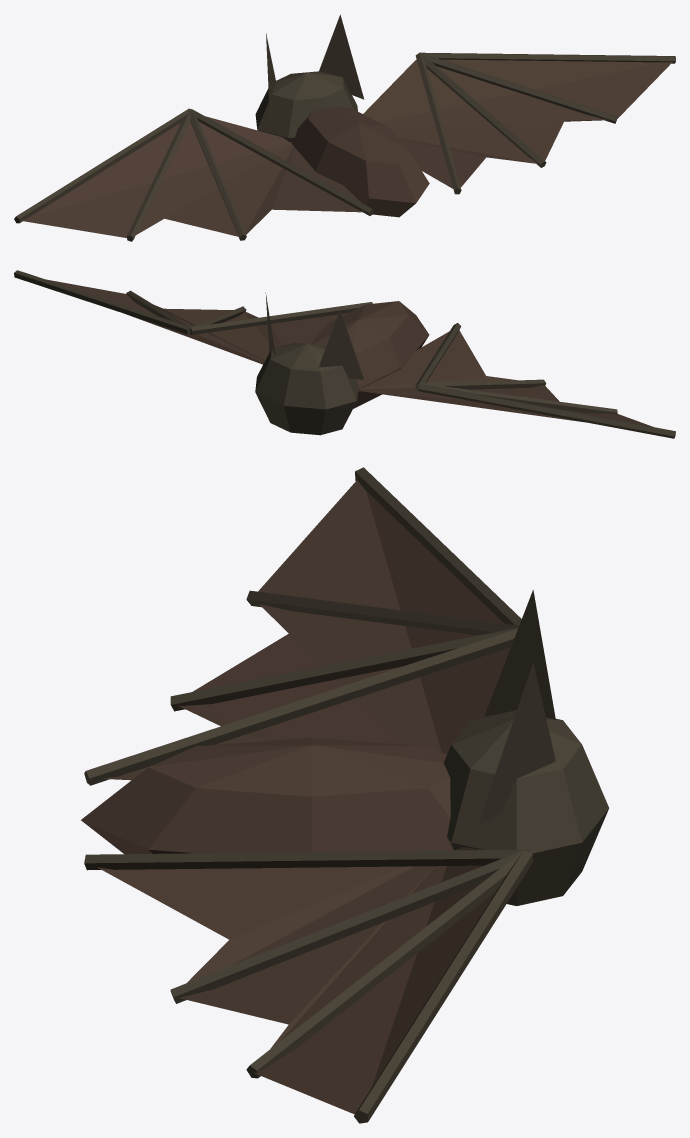
The model's file is bat.glb.
3 views of the same model, one above another, from view 1: azimuth 30°, elevation 25°; view 2: azimuth 150°, elevation 25°; view 3: azimuth 270°, elevation 25° (orthographic). The views are drawn at different scales.
Parts seen in each view (by area): view 1: wing.001, wing, body, head, wing spar.004, wing spar, wing spar.003, wing spar.005, ear.001, wing spar.006, wing spar.007, wing spar.001 (+2 smaller); view 2: head, wing, body, wing.001, wing spar, wing spar.004, wing spar.007, ear, wing spar.001, wing spar.002, wing spar.003, wing spar.005 (+1 smaller); view 3: wing.001, wing, body, head, wing spar.003, wing spar.007, wing spar.006, wing spar.005, wing spar.004, wing spar.002, ear.001, wing spar.001 (+2 smaller).
Part boxes in pixels (left/top/right/bottom): wing.001: left=363, top=59, right=672, bottom=188; wing: left=22, top=116, right=364, bottom=238; body: left=291, top=106, right=429, bottom=217; head: left=255, top=71, right=357, bottom=142; wing spar.004: left=419, top=52, right=675, bottom=63; wing spar: left=14, top=108, right=189, bottom=223; wing spar.003: left=190, top=109, right=374, bottom=215; wing spar.005: left=420, top=53, right=617, bottom=123; ear.001: left=319, top=14, right=364, bottom=99; wing spar.006: left=420, top=53, right=546, bottom=167; wing spar.007: left=415, top=53, right=461, bottom=194; wing spar.001: left=126, top=109, right=190, bottom=241; head: left=255, top=342, right=358, bottom=435; wing: left=358, top=330, right=652, bottom=426; body: left=310, top=301, right=429, bottom=408; wing.001: left=47, top=279, right=348, bottom=364; wing spar: left=418, top=384, right=675, bottom=438; wing spar.004: left=14, top=270, right=190, bottom=334; wing spar.007: left=190, top=302, right=372, bottom=334; ear: left=318, top=310, right=363, bottom=379; wing spar.001: left=419, top=383, right=617, bottom=413; wing spar.002: left=420, top=379, right=546, bottom=389; wing spar.003: left=415, top=323, right=461, bottom=390; wing spar.005: left=126, top=290, right=189, bottom=332; wing.001: left=97, top=847, right=497, bottom=1114; wing: left=102, top=480, right=510, bottom=780; body: left=81, top=737, right=452, bottom=854; head: left=443, top=710, right=608, bottom=905; wing spar.003: left=84, top=628, right=517, bottom=785; wing spar.007: left=84, top=849, right=528, bottom=870; wing spar.006: left=170, top=850, right=523, bottom=1003; wing spar.005: left=246, top=850, right=523, bottom=1078; wing spar.004: left=354, top=850, right=533, bottom=1123; wing spar.002: left=170, top=627, right=518, bottom=711; ear.001: left=477, top=662, right=555, bottom=826; wing spar.001: left=246, top=590, right=518, bottom=635.
Bounding box in the file's own units: 0.4616 × 0.091 × 0.16.
